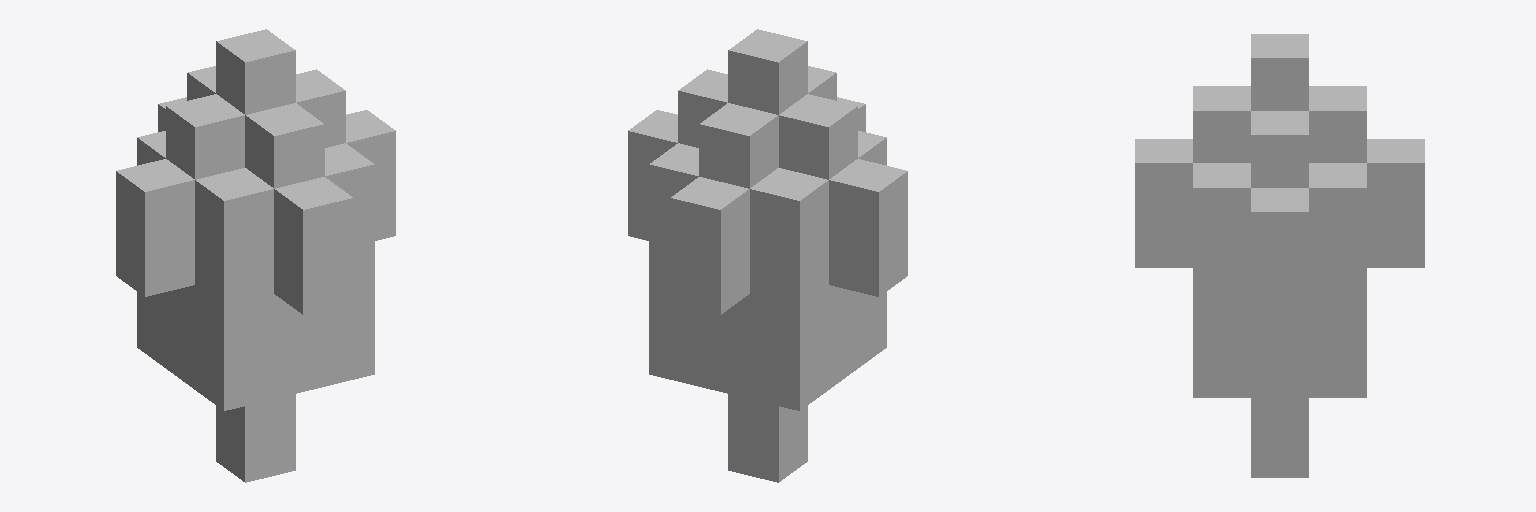
The model's file is Plant_Yellow.obj.
3 renders of one model, left to right at view 1: azimuth 30°, elevation 25°; view 2: azimuth 150°, elevation 25°; view 3: azimuth 270°, elevation 25°, orthographic.
Visible parts, largest first — view 1: Plant yellow; view 2: Plant yellow; view 3: Plant yellow.
Part boxes in pixels (x1,y1,x2,y2): Plant yellow: (116, 29, 395, 482); Plant yellow: (628, 29, 907, 482); Plant yellow: (1135, 34, 1424, 477).
Size of the model in its own units: 5 by 8 by 5.